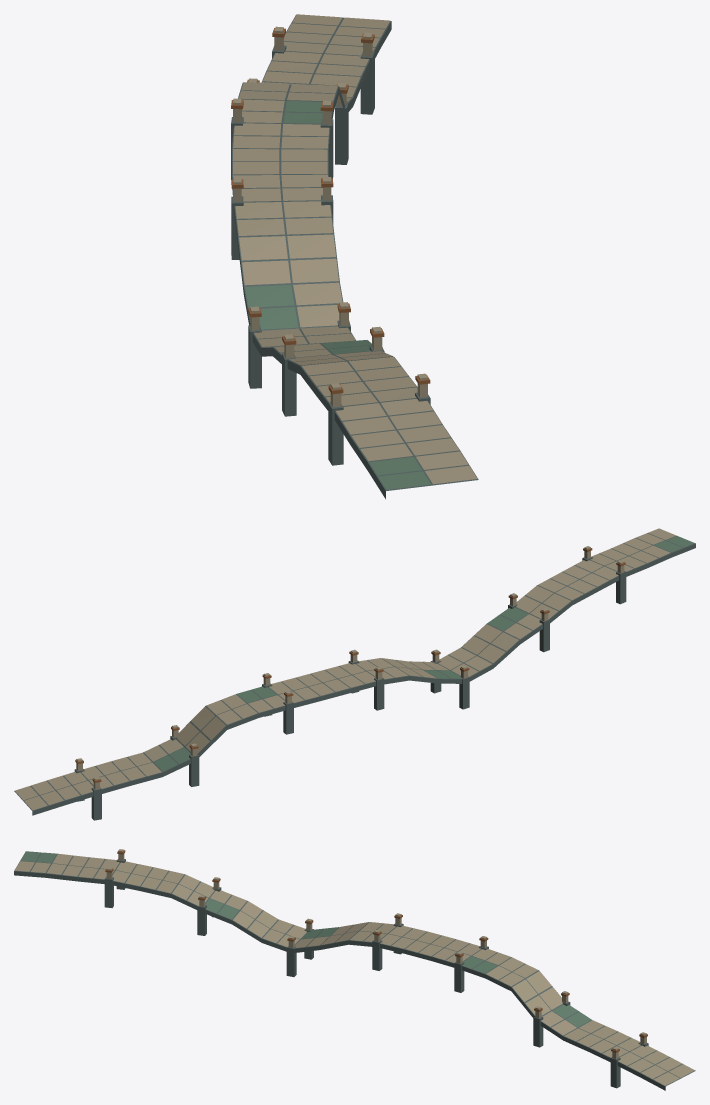
The model's file is 2_orchard_pass_1.glb.
3 renders of one model, top to bottom at view 1: azimuth 30°, elevation 25°; view 2: azimuth 150°, elevation 25°; view 3: azimuth 270°, elevation 25°, orthographic. The views are drawn at different scales.
Parts seen in each view (by area): view 1: Detail_9_13, Detail_8_14, Detail_9_14, Deck_9_13-col, Deck_8_14-col, Deck_9_14-col; view 2: Detail_9_13, Detail_8_14, Detail_9_14, Deck_9_13-col, Deck_8_14-col; view 3: Detail_9_13, Detail_8_14, Detail_9_14, Deck_9_13-col, Deck_8_14-col.
Part boxes in pixels (x1,y1,x2,y2): Detail_9_13: (231, 14, 391, 260); Detail_8_14: (252, 334, 477, 499); Detail_9_14: (238, 234, 384, 388); Deck_9_13-col: (232, 14, 391, 237); Deck_8_14-col: (253, 328, 478, 490); Deck_9_14-col: (238, 234, 343, 330); Detail_9_13: (15, 649, 422, 820); Detail_8_14: (465, 528, 695, 681); Detail_9_14: (382, 593, 527, 709); Deck_9_13-col: (14, 660, 408, 810); Deck_8_14-col: (438, 533, 695, 677); Detail_9_13: (345, 913, 694, 1090); Detail_8_14: (14, 849, 293, 933); Detail_9_14: (140, 887, 372, 976); Deck_9_13-col: (349, 923, 695, 1086); Deck_8_14-col: (14, 851, 307, 947).
Size of the model in its own units: 21.43 by 6.84 by 39.21.
